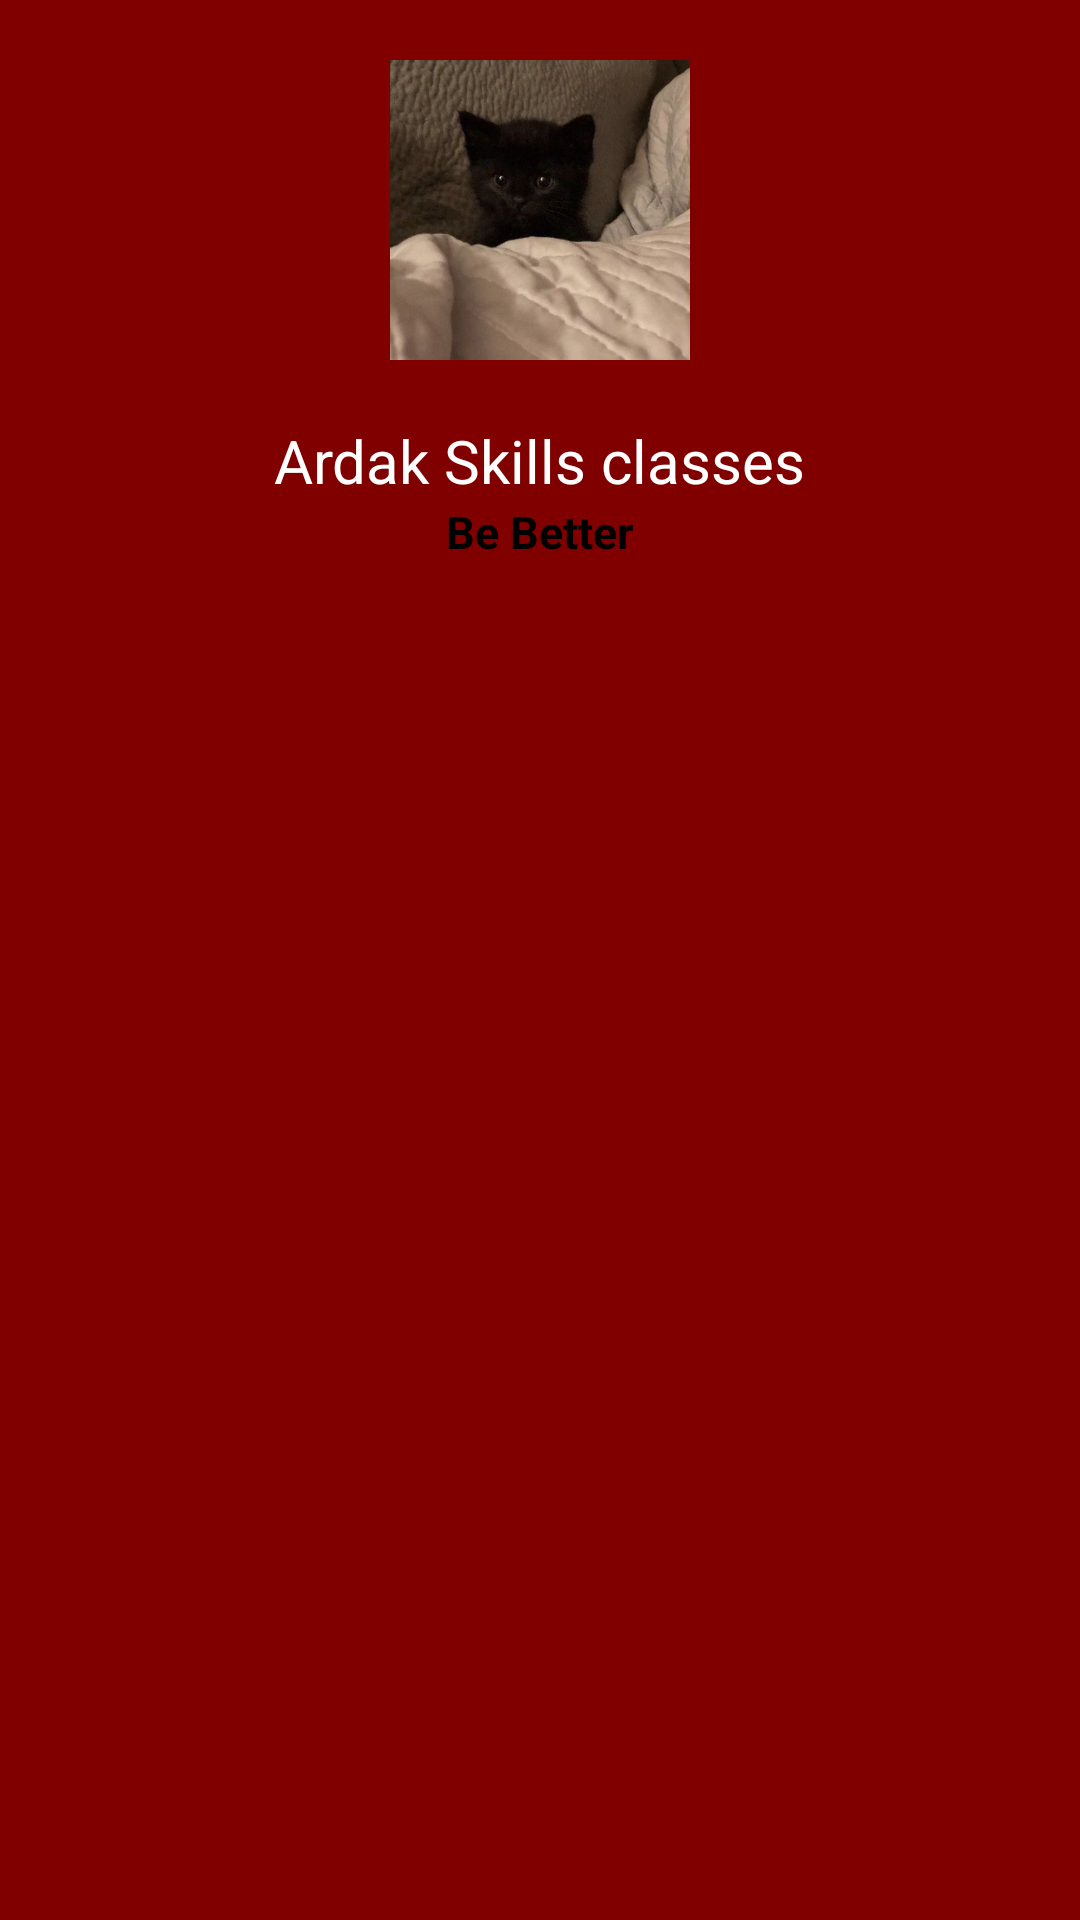

Named icons in this screenshot (1080px×1920px) and their centers, (x=x, y=y):
cat: (x=540, y=210)
